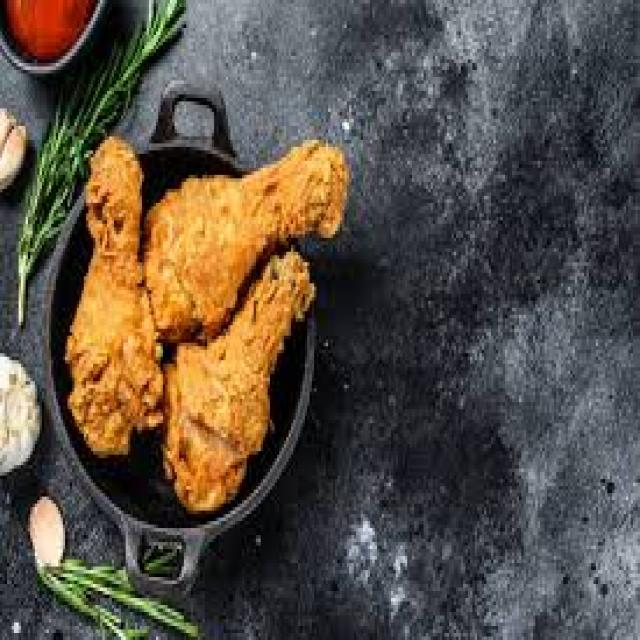Frango: (65, 123, 354, 514)
